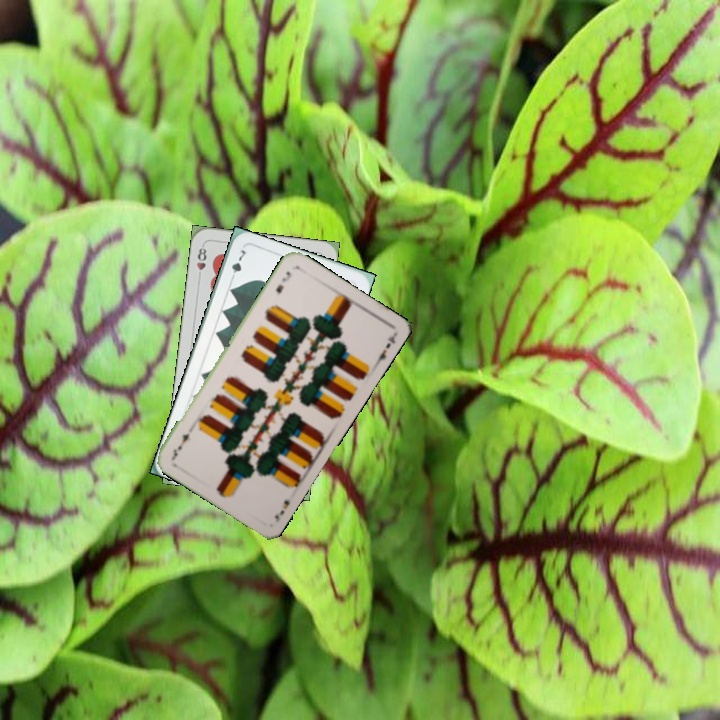E7: (271, 267, 294, 296), (270, 496, 292, 525)
G7: (226, 245, 248, 284)
H8: (193, 241, 209, 282)
